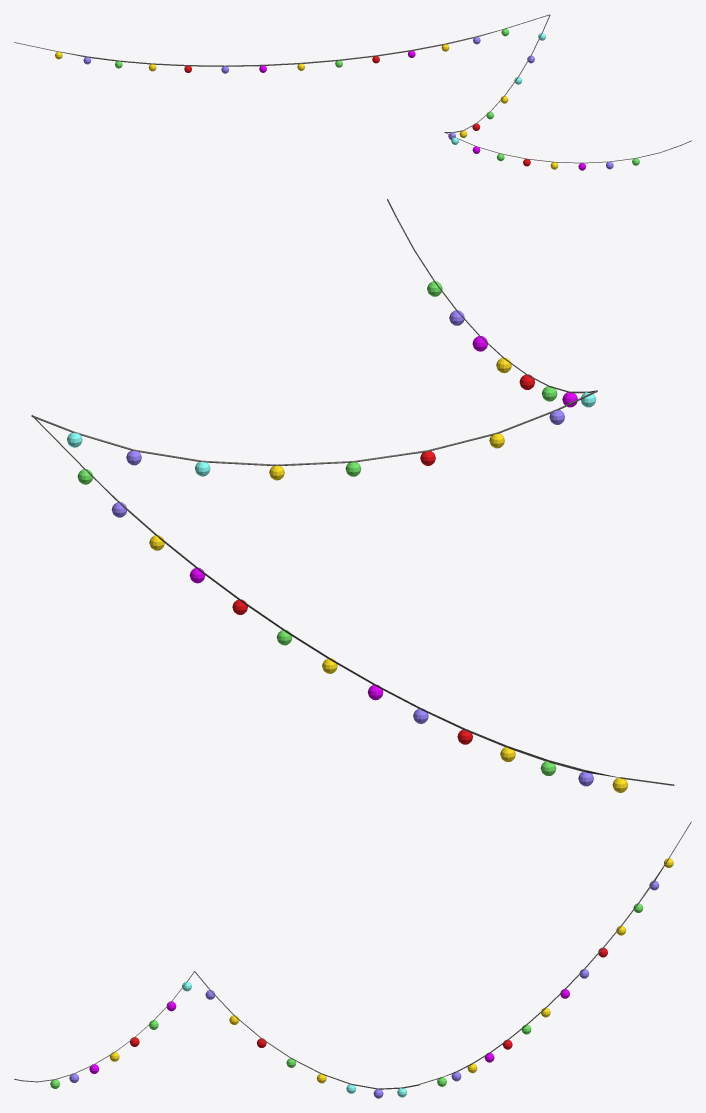
Rendered from SM_Scene_A_Guirlando.fbx.
3 renders of one model, top to bottom at view 1: azimuth 30°, elevation 25°; view 2: azimuth 150°, elevation 25°; view 3: azimuth 270°, elevation 25°, orthographic. The views are drawn at different scales.
Visible parts, largest first — view 1: SM_Scene_A_Guirlando; view 2: SM_Scene_A_Guirlando; view 3: SM_Scene_A_Guirlando.
Part boxes in pixels (left/top/right/bottom): SM_Scene_A_Guirlando: left=14, top=14, right=691, bottom=170; SM_Scene_A_Guirlando: left=31, top=199, right=674, bottom=792; SM_Scene_A_Guirlando: left=14, top=821, right=691, bottom=1098.
Bounding box in the file's own units: 1358 × 134 × 1467.
